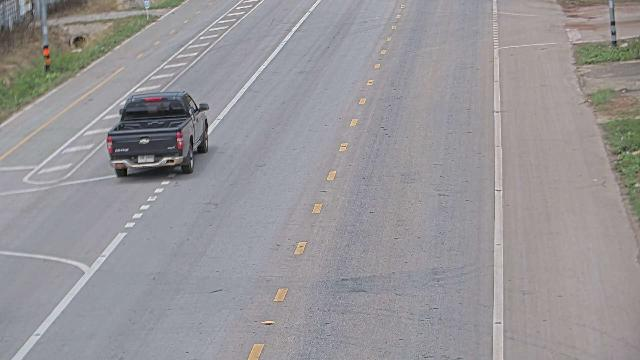pickup-truck: (105, 90, 210, 177)
